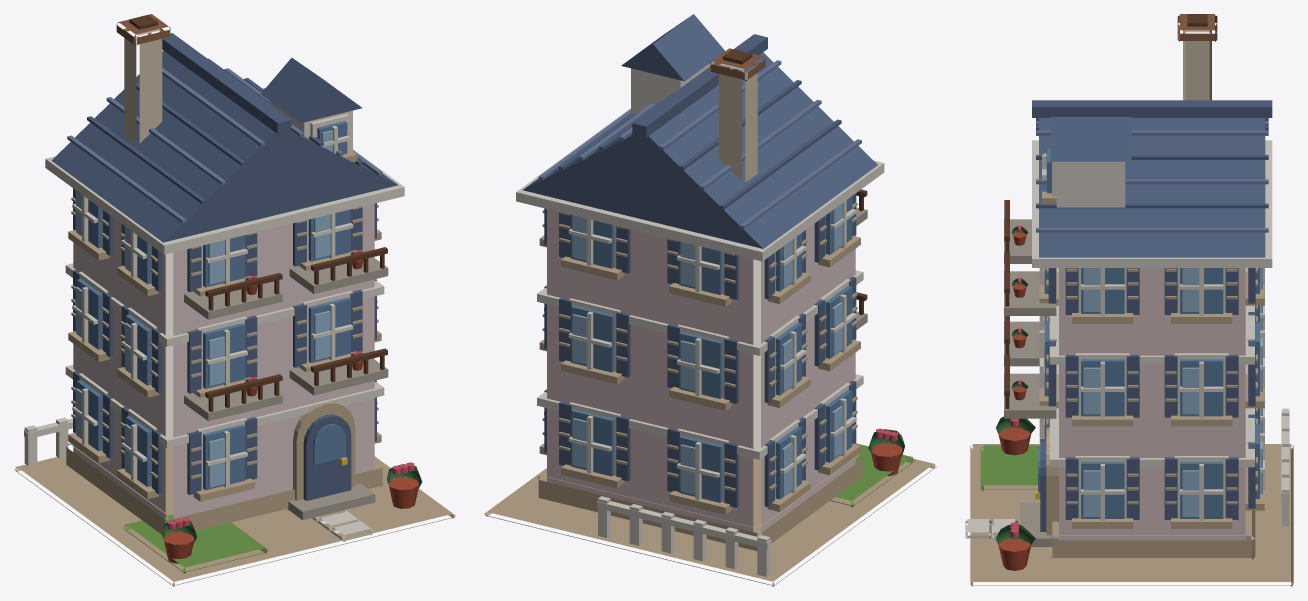
Rendered from house-c.glb.
3 renders of one model, left to right at view 1: azimuth 30°, elevation 25°; view 2: azimuth 150°, elevation 25°; view 3: azimuth 270°, elevation 25°, orthographic. The views are drawn at different scales.
Visible parts, largest first — view 1: house-c; view 2: house-c; view 3: house-c.
Boxes of the visible parts, x1=… form: house-c: x1=14, y1=14, x2=455, y2=586; house-c: x1=484, y1=14, x2=936, y2=586; house-c: x1=965, y1=14, x2=1293, y2=586.
Size of the model in its own units: 0.86 by 1.35 by 0.8521.
